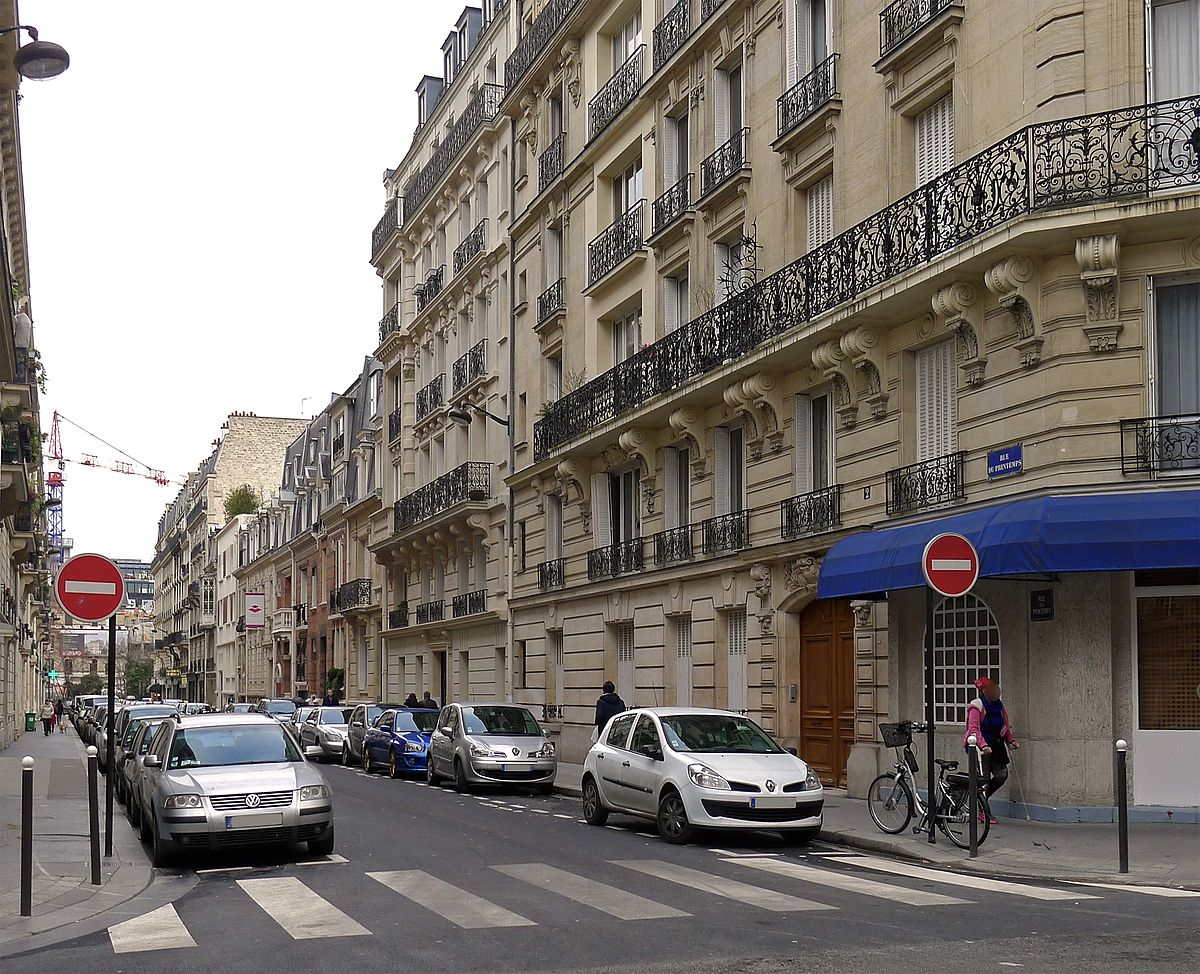d: (61, 546, 1009, 619)
